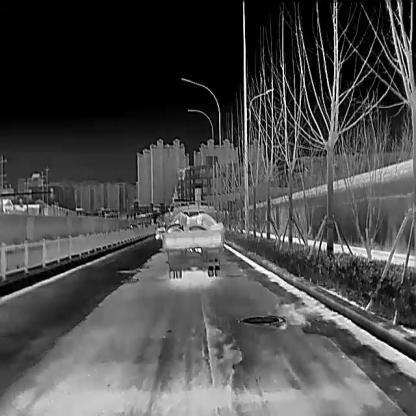car: (161, 208, 224, 279), (154, 223, 166, 239)
